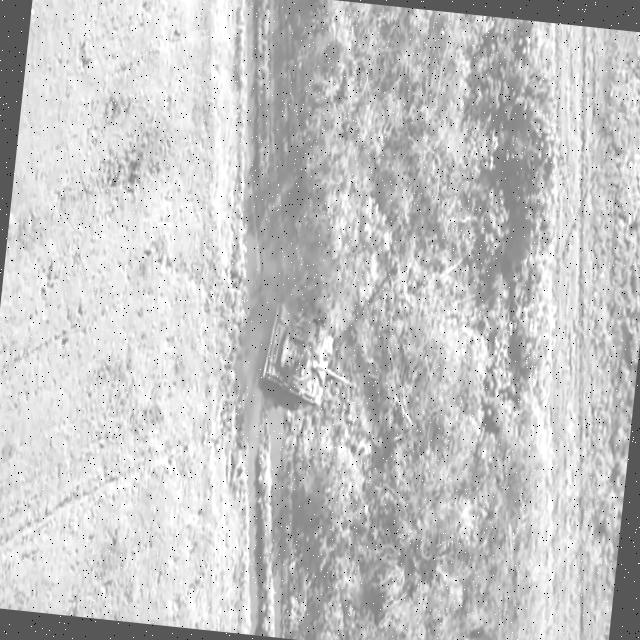MBT: (257, 300, 371, 417)
